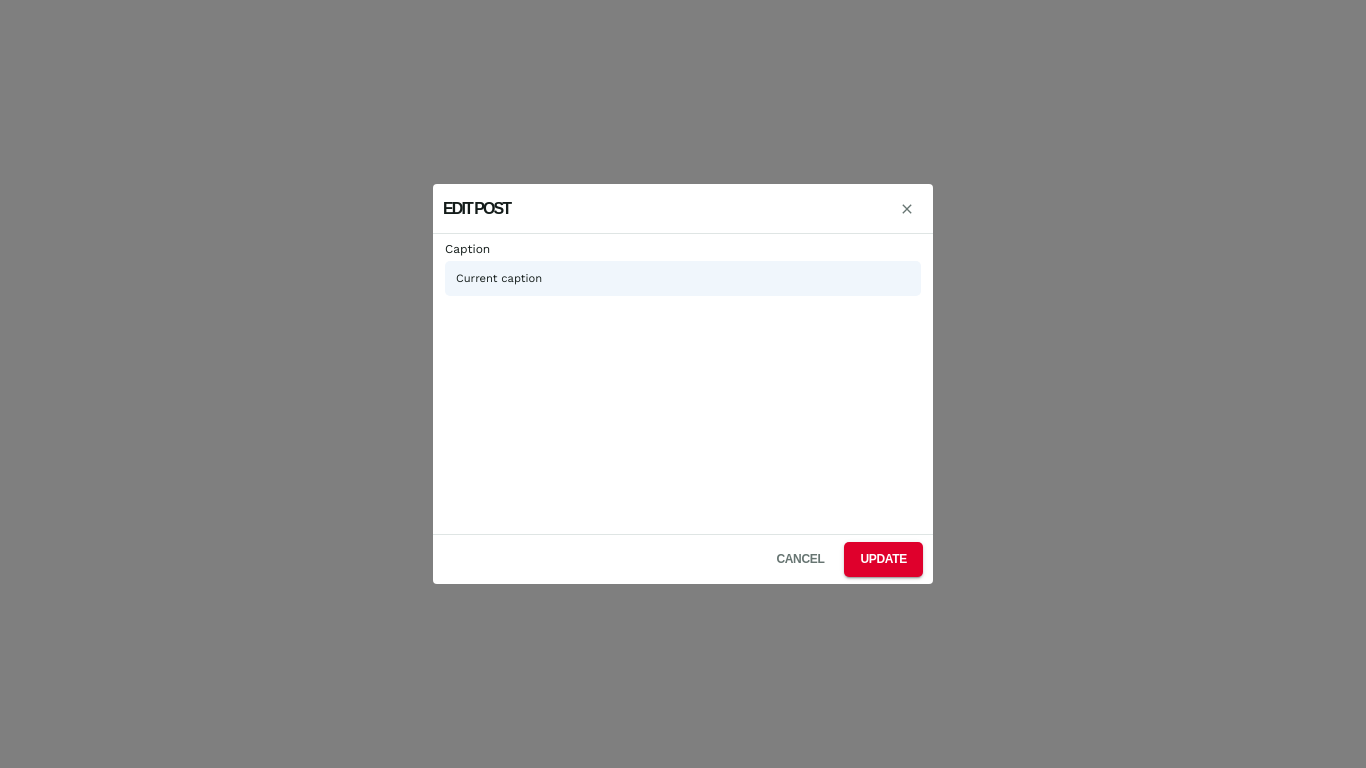
EditPostModal › shows validation error for empty caption
The image size is (1366, 768).
Step 1. Clear the field with placeholder "What's on your mind?" → [683, 278], box [445,261,921,296]
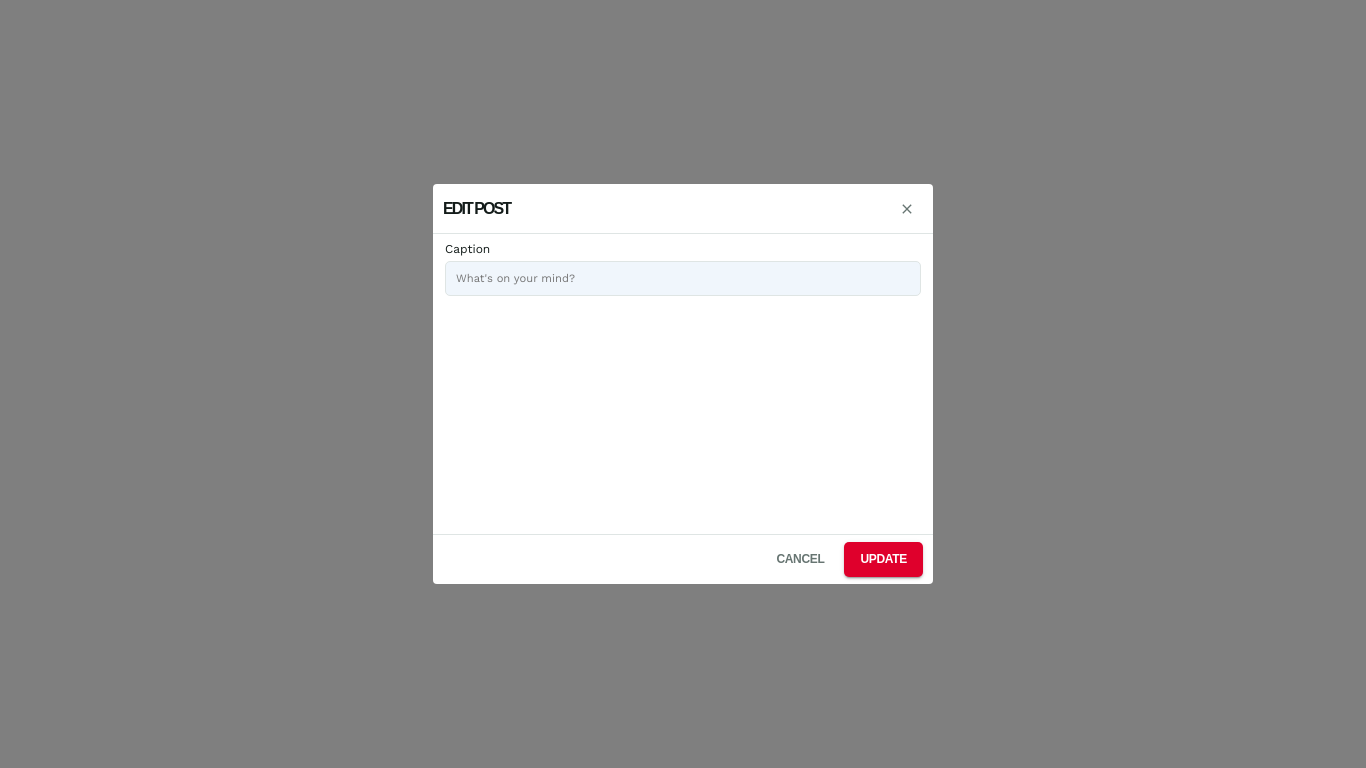
Step 2. Click the button "UPDATE" → [884, 560], box [844,542,923,577]
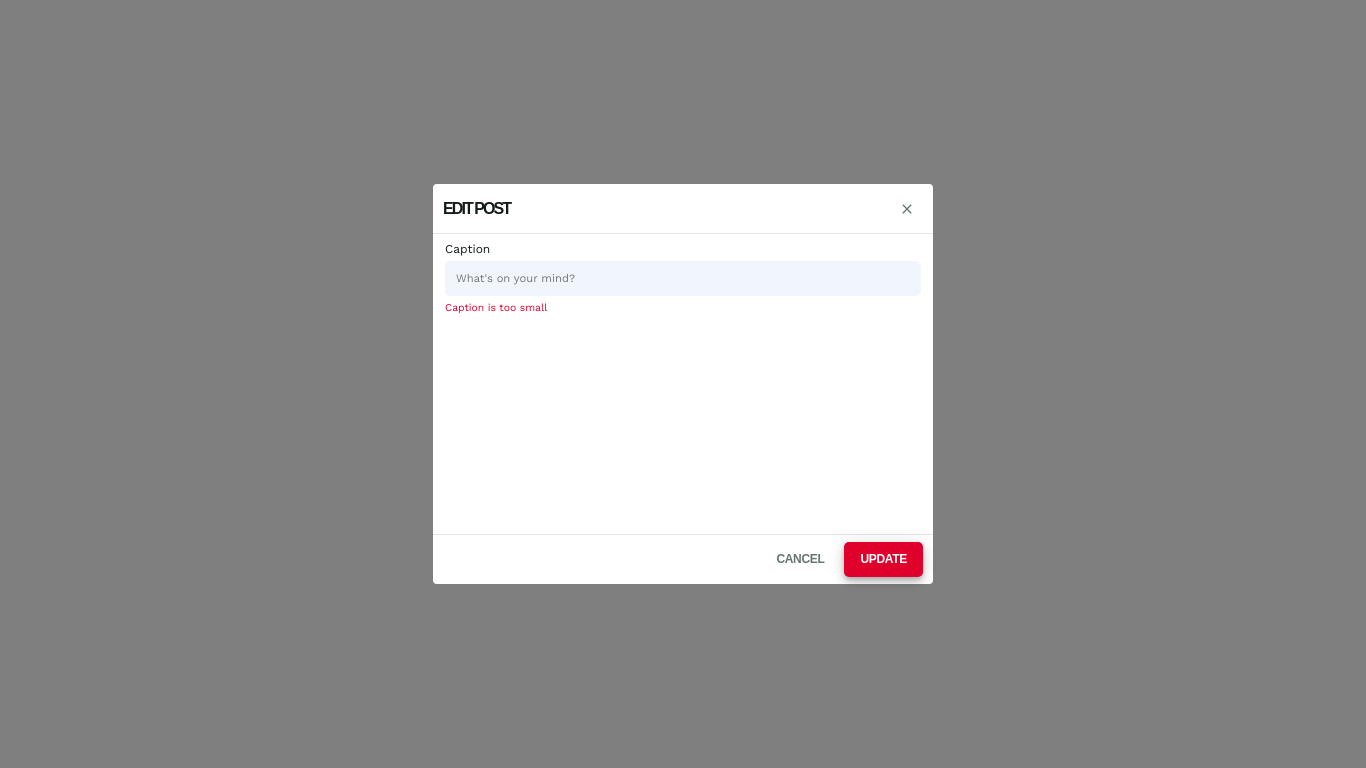
expect the text "Caption is too small" is shown: met, box [445,301,547,314]
